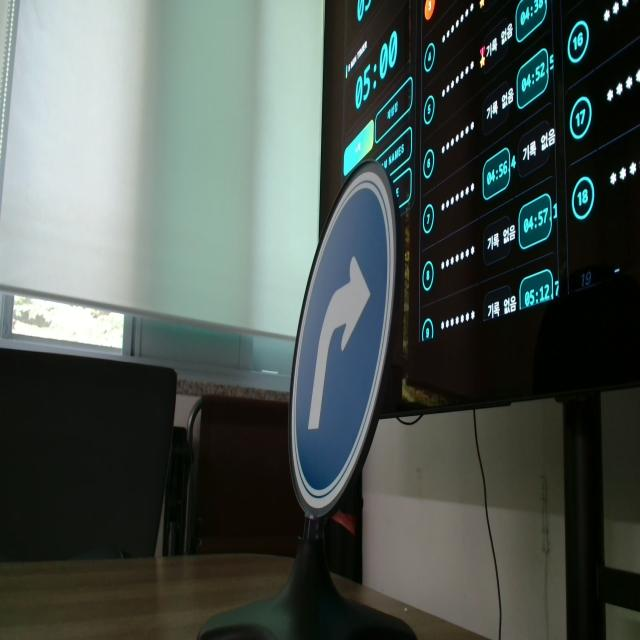right_dierection: (287, 184, 394, 516)
